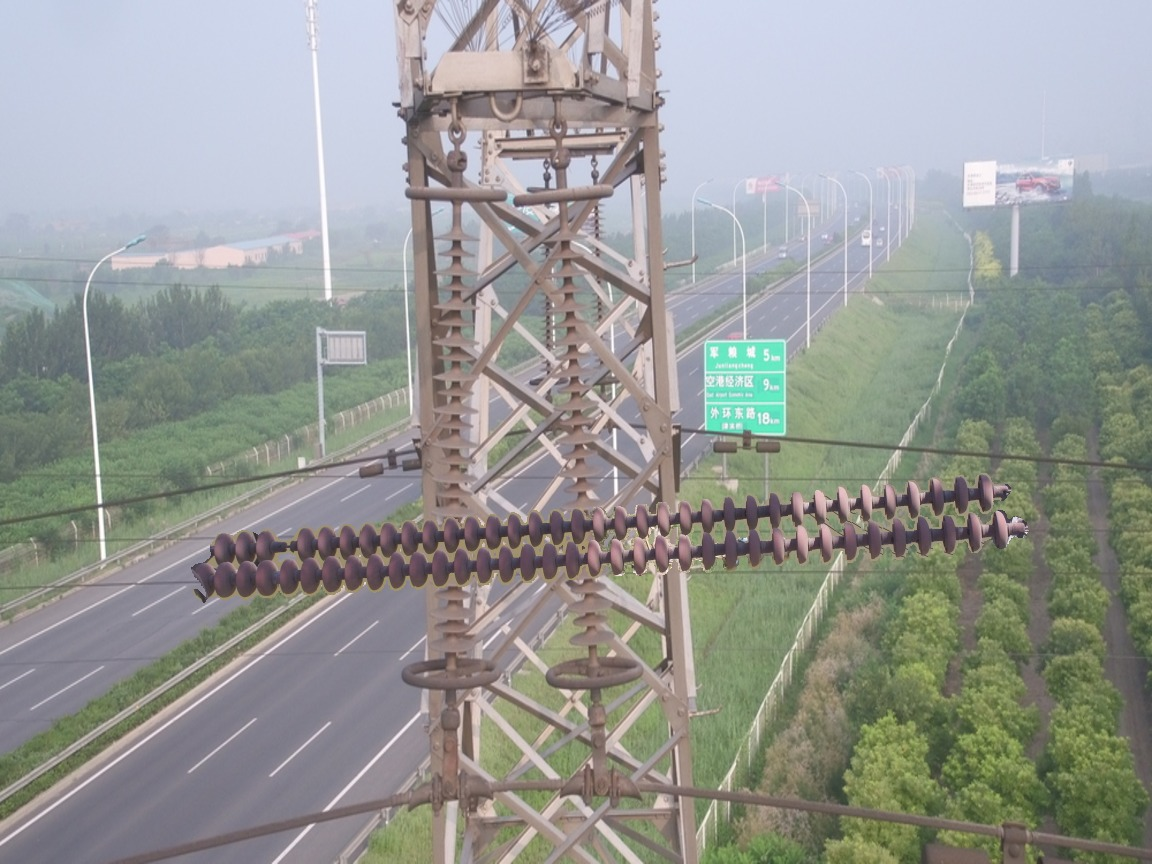defect: (251, 523, 316, 562)
